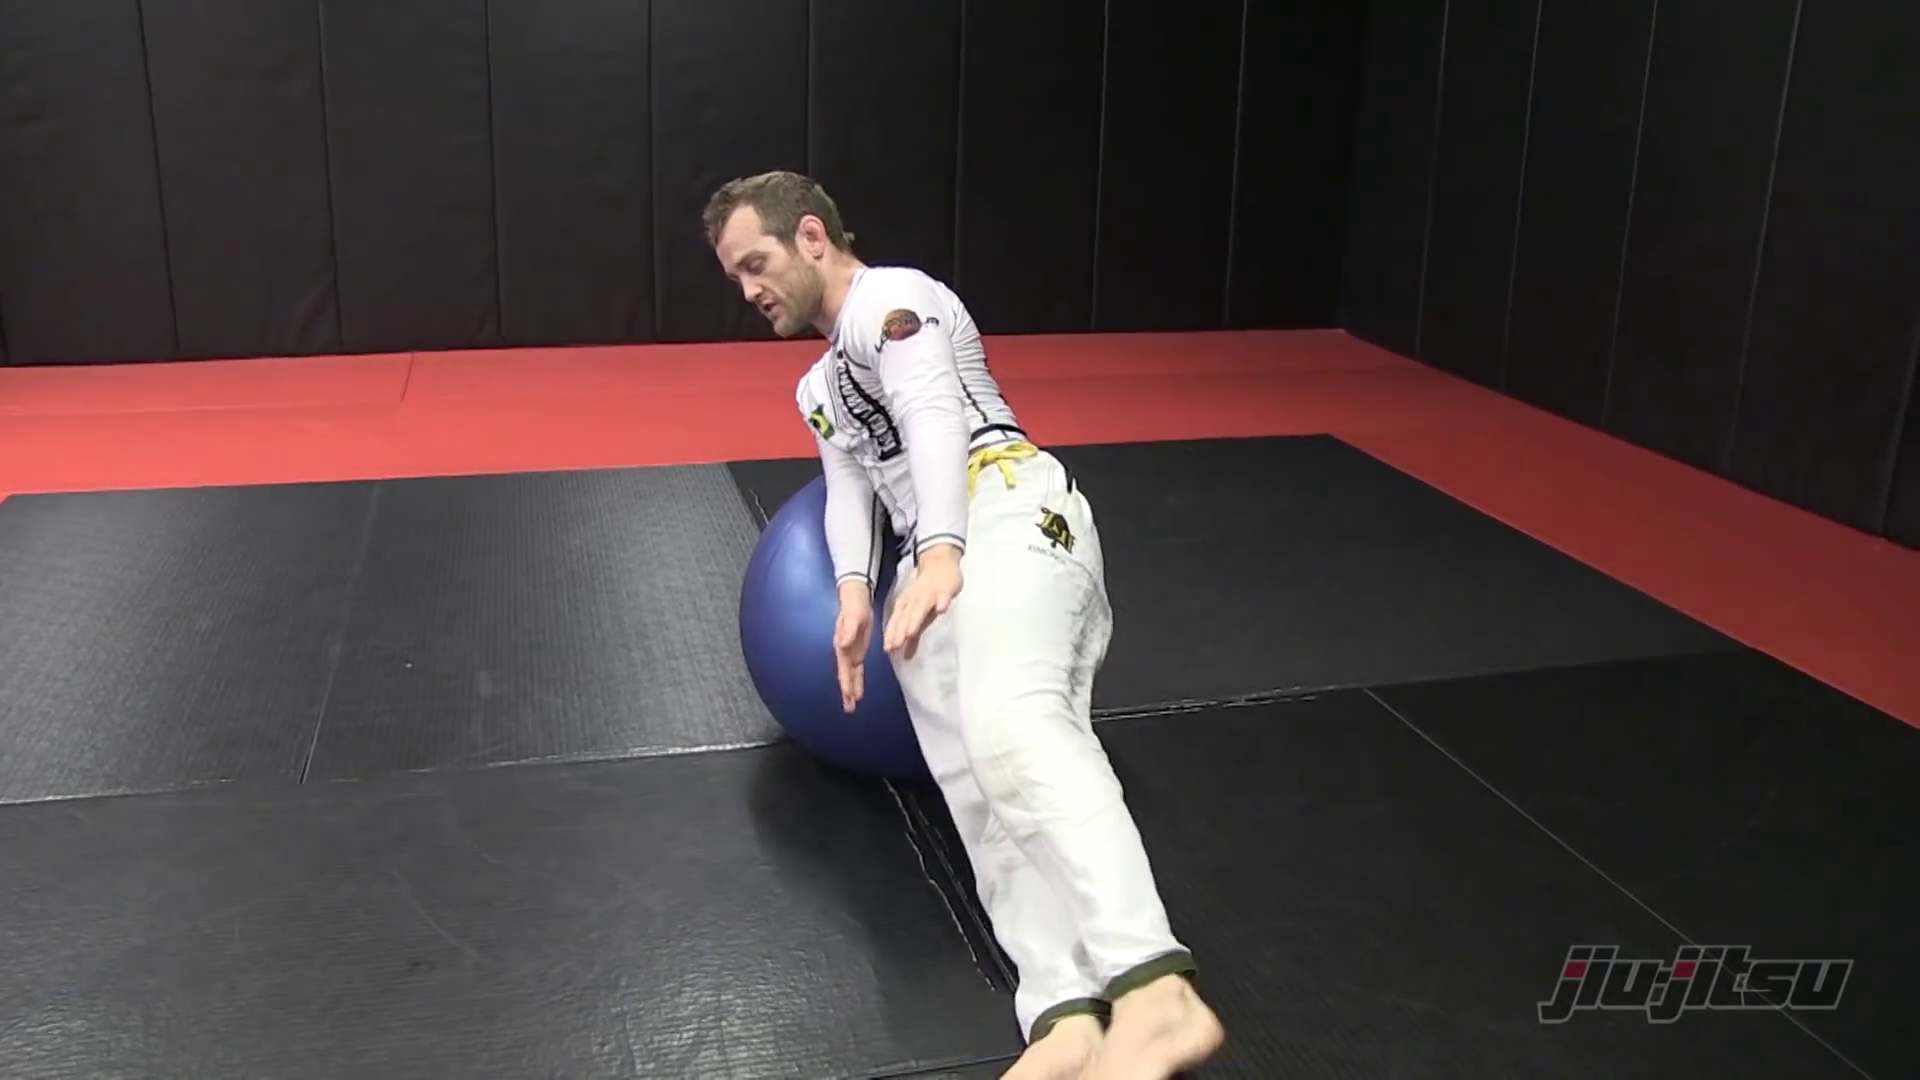yogaball: (698, 451, 1015, 804)
